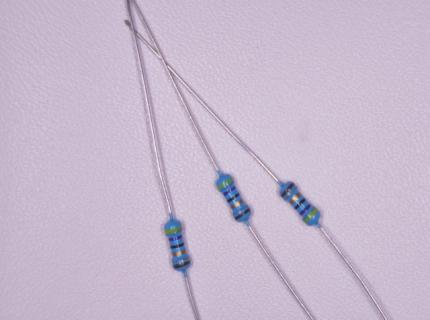Gold band: (289, 192, 302, 205), (230, 199, 245, 210), (172, 248, 186, 257)
Violet band: (299, 203, 312, 216), (223, 185, 237, 197), (168, 235, 183, 242)
Yellow band: (303, 208, 319, 224), (217, 177, 234, 190), (164, 225, 182, 234)
